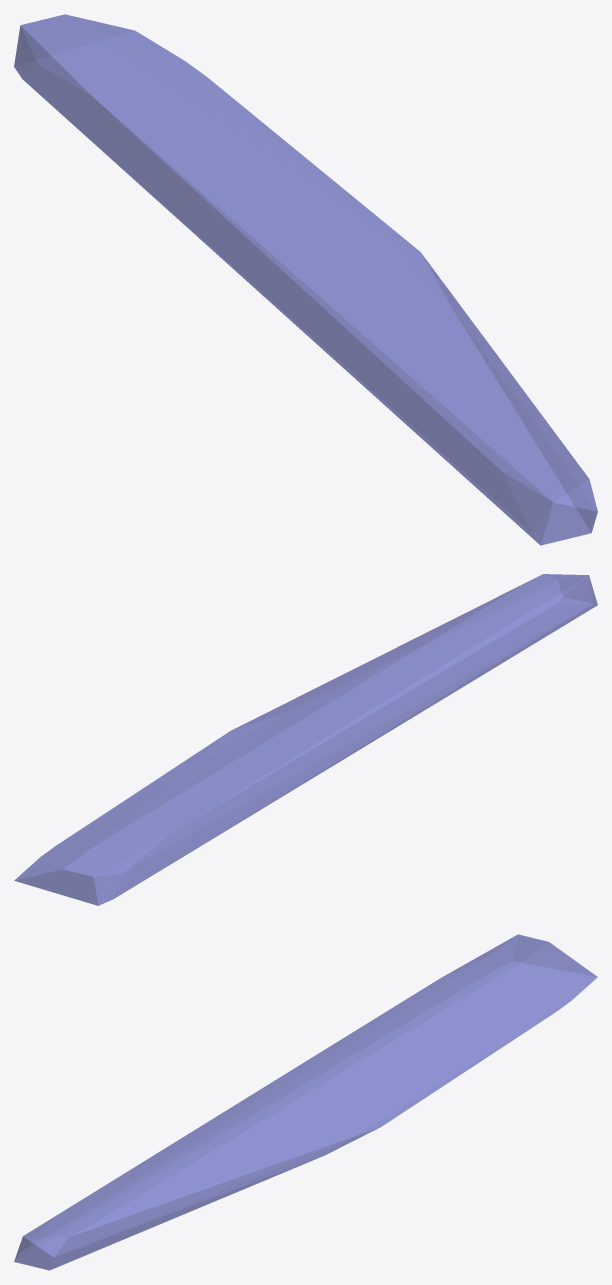
3 renders of one model, top to bottom at view 1: azimuth 30°, elevation 25°; view 2: azimuth 150°, elevation 25°; view 3: azimuth 330°, elevation 25°, orthographic. The views are drawn at different scales.
Parts seen in each view (by area): view 1: Shape_IndexedFaceSet.028_Shape_IndexedFaceSet.9031; view 2: Shape_IndexedFaceSet.028_Shape_IndexedFaceSet.9031; view 3: Shape_IndexedFaceSet.028_Shape_IndexedFaceSet.9031.
Part boxes in pixels (x1,y1,x2,y2): Shape_IndexedFaceSet.028_Shape_IndexedFaceSet.9031: [14, 14, 597, 545]; Shape_IndexedFaceSet.028_Shape_IndexedFaceSet.9031: [14, 574, 597, 905]; Shape_IndexedFaceSet.028_Shape_IndexedFaceSet.9031: [14, 934, 597, 1270].
Bounding box in the file's own units: 0.014 × 0.00239 × 0.0674.
